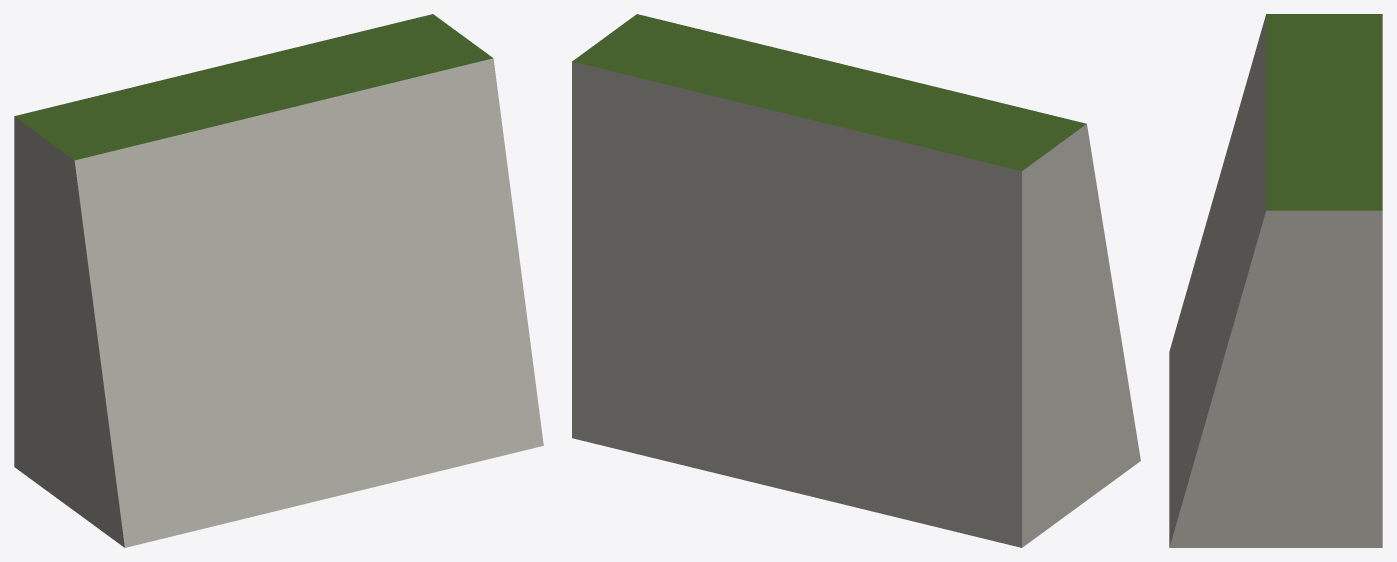
File: Terrain_Modular_Tiles_Grass_Rock_Cliff_Side_Outer_01.fbx
The picture shows the model from 3 angles, left to right: view 1: azimuth 30°, elevation 25°; view 2: azimuth 150°, elevation 25°; view 3: azimuth 270°, elevation 25°; orthographic projection. The views are drawn at different scales.
Parts seen in each view (by area): view 1: Terrain_Modular_Tiles_Grass_Rock_Cliff_Side_Outer_01; view 2: Terrain_Modular_Tiles_Grass_Rock_Cliff_Side_Outer_01; view 3: Terrain_Modular_Tiles_Grass_Rock_Cliff_Side_Outer_01.
Part boxes in pixels (x1,y1,x2,y2): Terrain_Modular_Tiles_Grass_Rock_Cliff_Side_Outer_01: (14, 14, 543, 547); Terrain_Modular_Tiles_Grass_Rock_Cliff_Side_Outer_01: (572, 14, 1140, 547); Terrain_Modular_Tiles_Grass_Rock_Cliff_Side_Outer_01: (1169, 14, 1382, 547).
Size of the model in its own units: 118 by 94.49 by 54.07.
